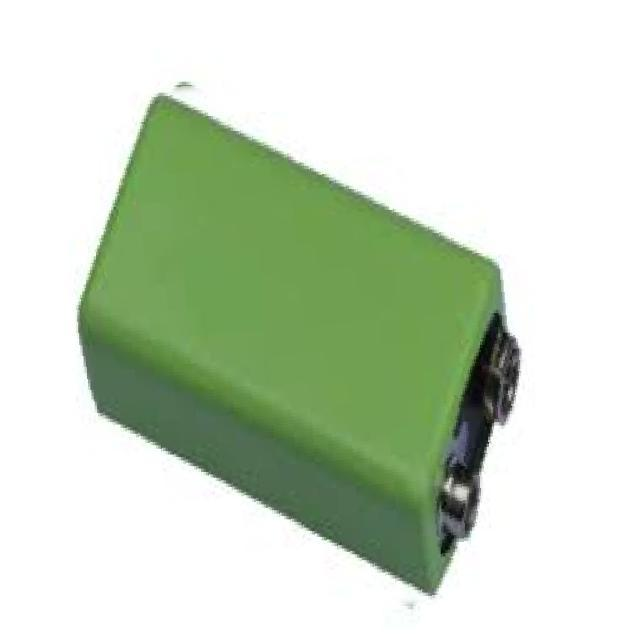Battery: (75, 89, 522, 604)
